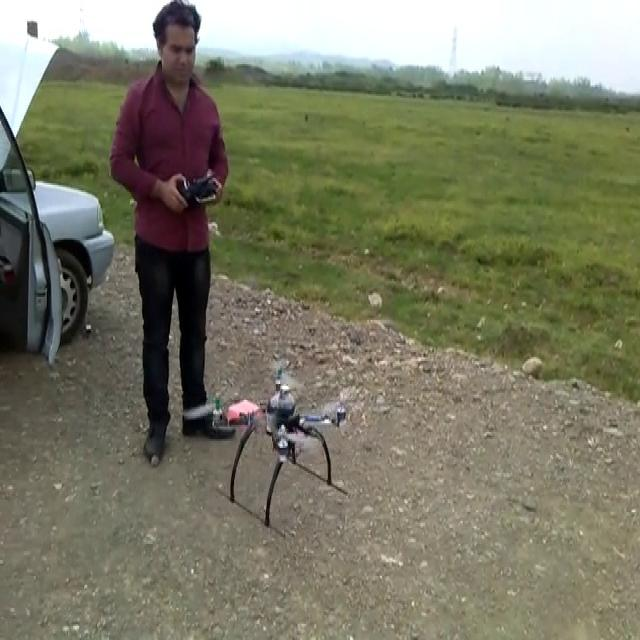drone: (185, 358, 352, 540)
